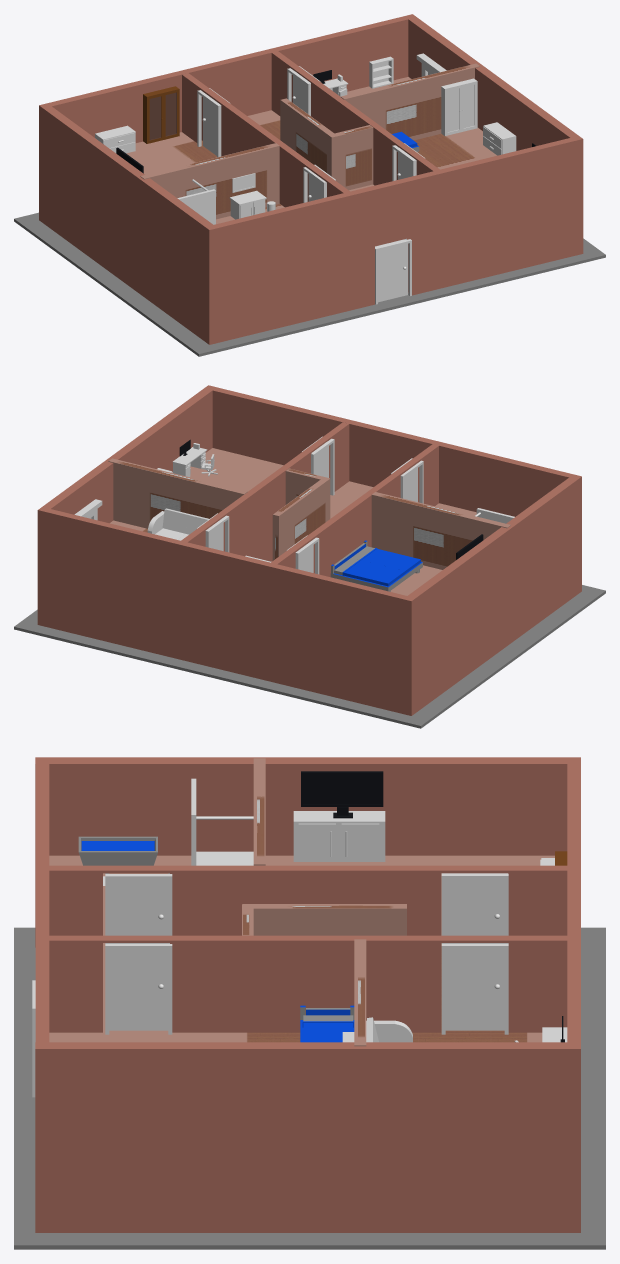
The model's file is _ecor.fbx.
3 views of the same model, one above another, from view 1: azimuth 30°, elevation 25°; view 2: azimuth 150°, elevation 25°; view 3: azimuth 270°, elevation 25° (orthographic). The views are drawn at different scales.
Visible parts, largest first — view 1: HouseStructure, Floor_02, PrincipalWall, Mur001, Mur002, Mur, PrincipalWall_001, Armoire (×2), Armoire001, Box052, Box089, Douche001 (+5 smaller); view 2: HouseStructure, Mur, PrincipalWall_001, Mur002, PrincipalWall, Floor_02, Mur001, Lit_simple002, Canapé001, Box064, Box099; view 3: HouseStructure, PrincipalWall_001, PrincipalWall, Floor_02, Mur001, Sphere011, Sphere013, Cylinder011, Sphere008, Sphere012, TV003, Box086 (+9 smaller).
Boxes of the visible parts, bbox=[...] form: HouseStructure: bbox=[14, 14, 605, 356]; Floor_02: bbox=[126, 77, 496, 224]; PrincipalWall: bbox=[182, 73, 349, 207]; Mur001: bbox=[280, 98, 373, 190]; Mur002: bbox=[341, 63, 479, 140]; Mur: bbox=[140, 143, 279, 219]; PrincipalWall_001: bbox=[271, 51, 439, 185]; Armoire (×2): bbox=[441, 78, 516, 155]; Armoire001: bbox=[143, 86, 179, 143]; Box052: bbox=[378, 243, 407, 302]; Box089: bbox=[229, 190, 266, 219]; Douche001: bbox=[177, 179, 215, 224]; HouseStructure: bbox=[14, 385, 605, 728]; Mur: bbox=[371, 492, 510, 569]; PrincipalWall_001: bbox=[181, 422, 349, 561]; Mur002: bbox=[108, 458, 247, 528]; PrincipalWall: bbox=[271, 444, 438, 577]; Floor_02: bbox=[110, 448, 476, 595]; Mur001: bbox=[272, 468, 330, 560]; Lit_simple002: bbox=[330, 540, 422, 591]; Canapé001: bbox=[147, 508, 208, 540]; Box064: bbox=[172, 443, 207, 476]; Box099: bbox=[311, 438, 334, 495]; HouseStructure: bbox=[14, 757, 605, 1249]; PrincipalWall_001: bbox=[49, 935, 567, 1032]; PrincipalWall: bbox=[49, 865, 567, 935]; Floor_02: bbox=[49, 855, 554, 1042]; Mur001: bbox=[242, 904, 406, 935]; Sphere011: bbox=[445, 949, 504, 1030]; Sphere013: bbox=[109, 949, 168, 1030]; Cylinder011: bbox=[293, 811, 385, 861]; Sphere008: bbox=[445, 879, 504, 943]; Sphere012: bbox=[109, 880, 168, 943]; TV003: bbox=[301, 771, 383, 818]; Box086: bbox=[78, 836, 157, 865].
Bounding box in the file's own units: 278 × 77.26 × 219.
25 materials, 3 textured.
